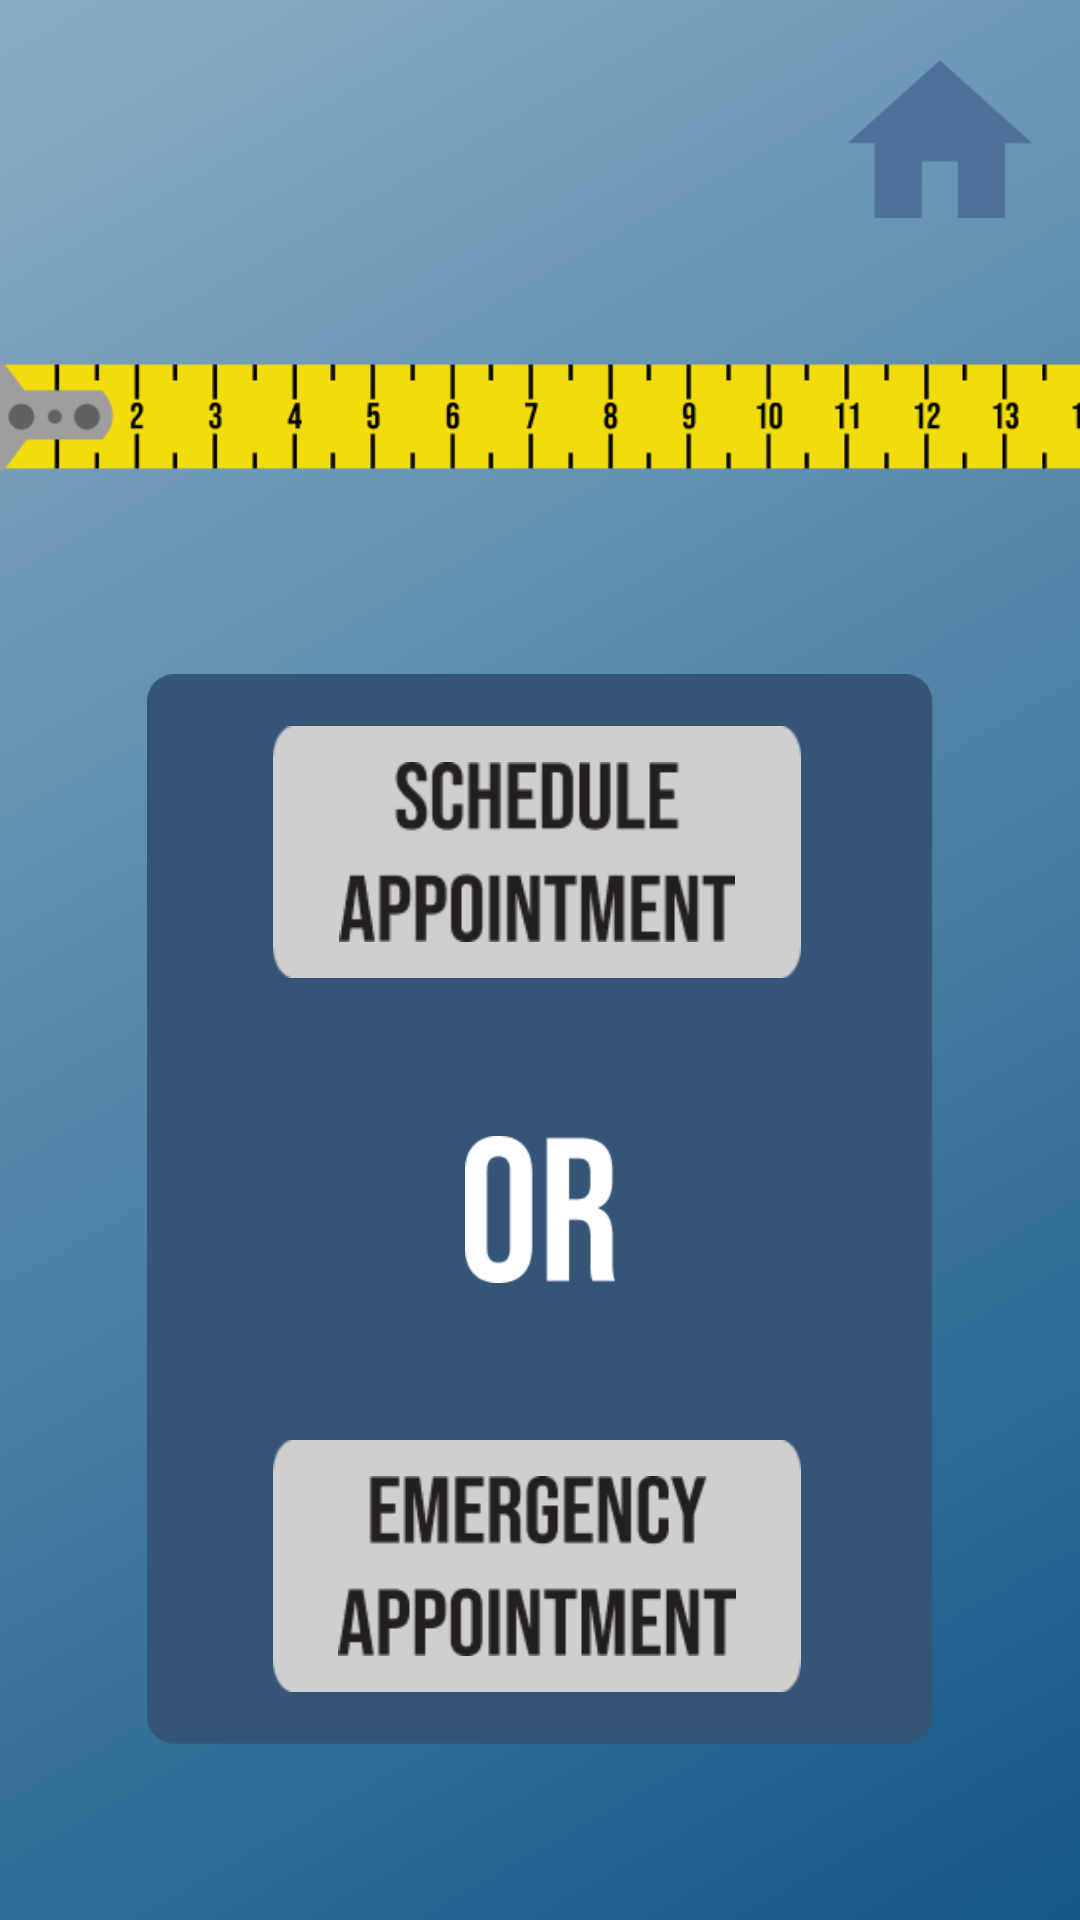

Named icons in this screenshot (1080px×1920px) and their bounding boxes, (x1, y1, x2, y2):
home: (849, 61, 1030, 218)
